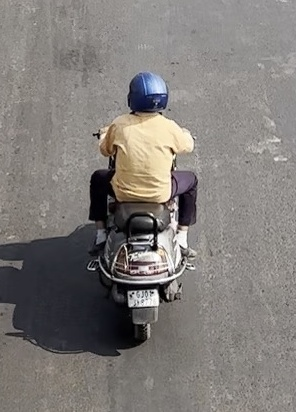BikeWithRider: (83, 70, 201, 344)
Helmet: (125, 71, 170, 115)
